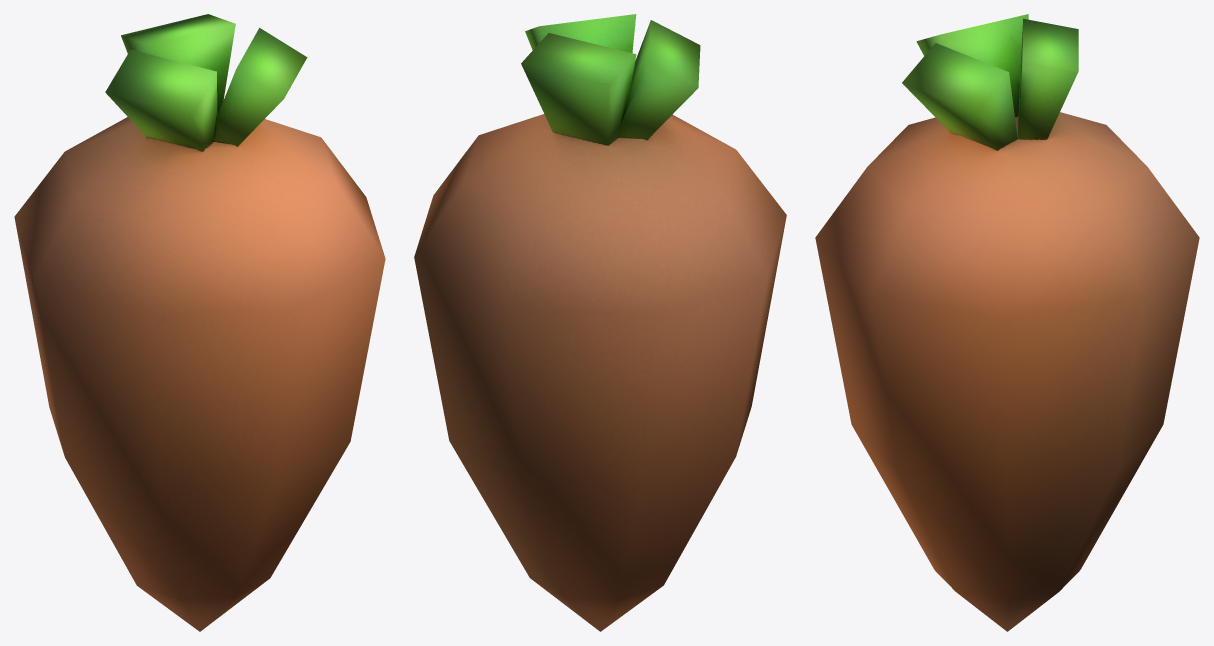
File: Carrot.fbx
3 views of the same model, side by side, from view 1: azimuth 30°, elevation 25°; view 2: azimuth 150°, elevation 25°; view 3: azimuth 270°, elevation 25° (orthographic).
Visible parts, largest first — view 1: Carrot; view 2: Carrot; view 3: Carrot.
Boxes of the visible parts, <box> form: Carrot: <box>14,14,385,631</box>; Carrot: <box>414,14,786,631</box>; Carrot: <box>815,14,1199,631</box>.
Bounding box in the file's own units: 2.28 × 3.87 × 2.28.
